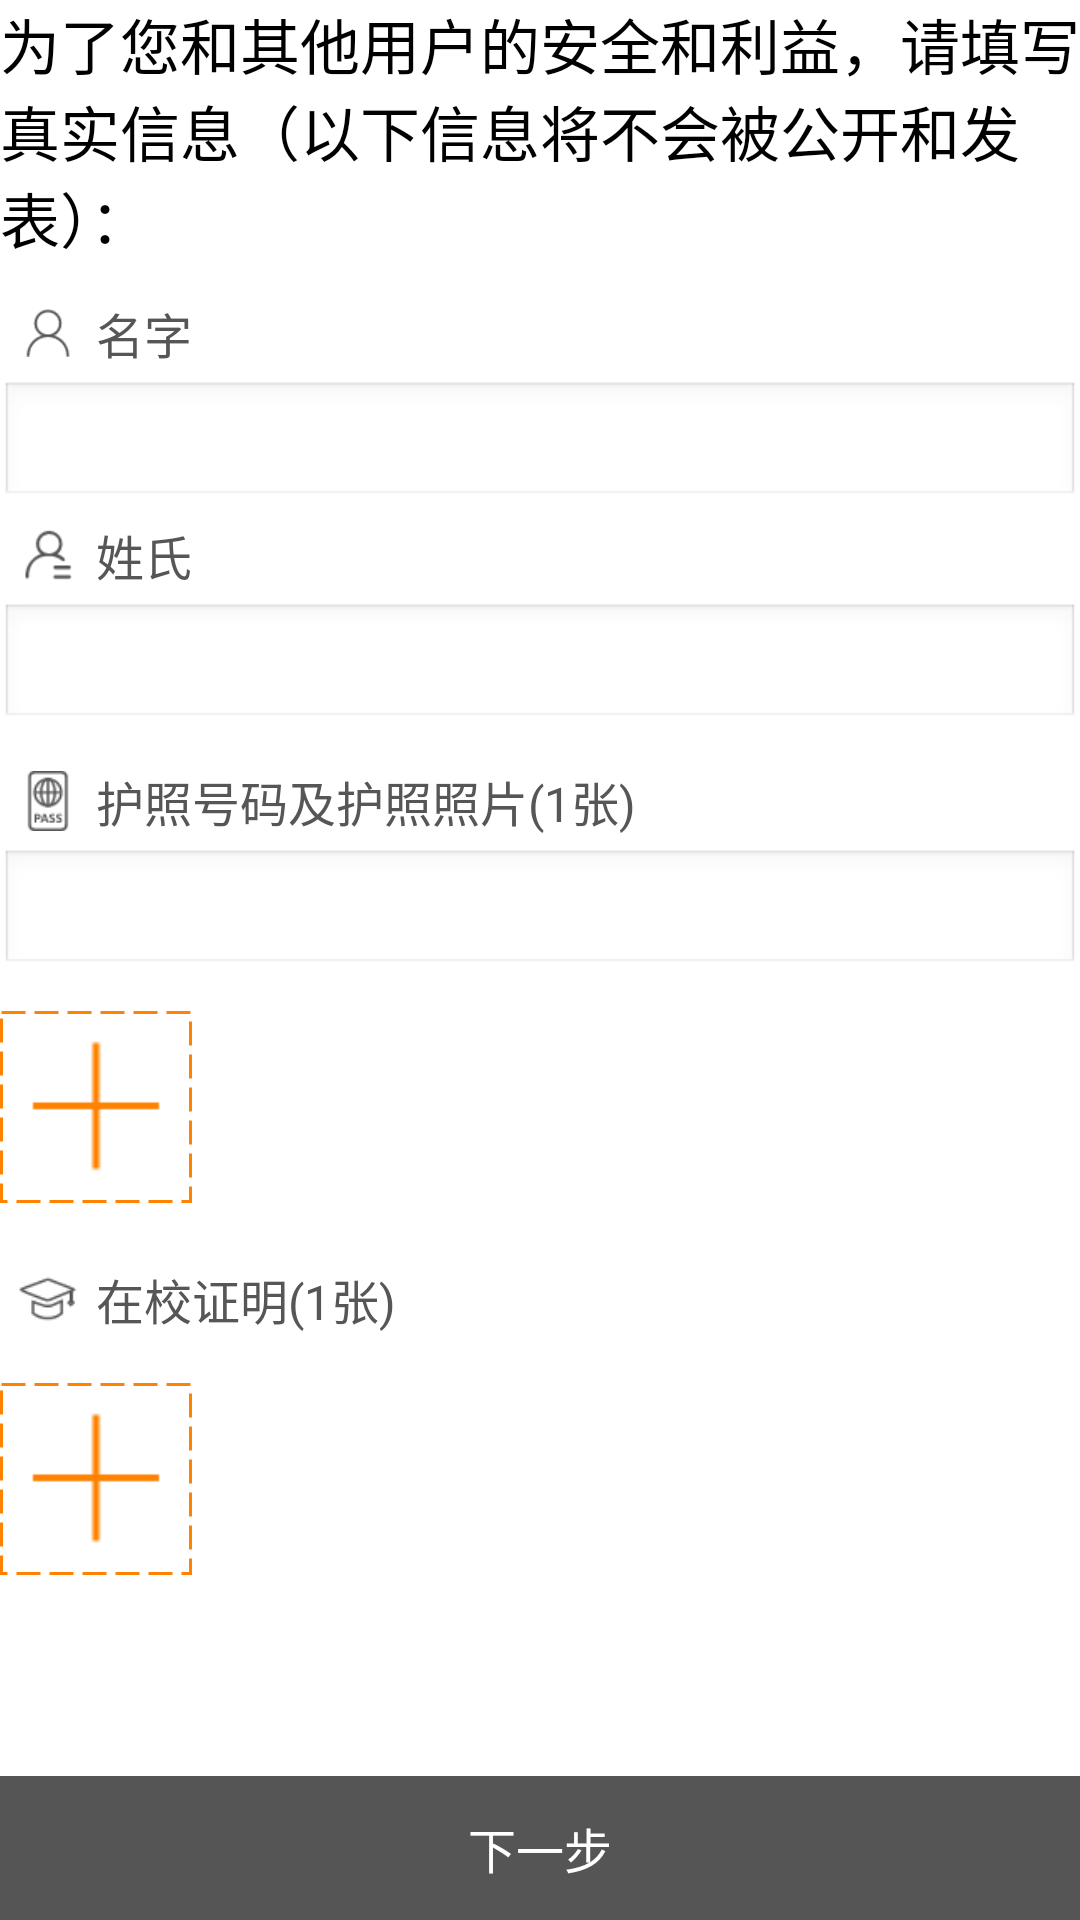

Icon click points for this 1080×1920 phone screenshot, format point (x, y):
leader apply add: point (96, 1107), point (96, 1479)
leader apply prove: point (47, 1299)
